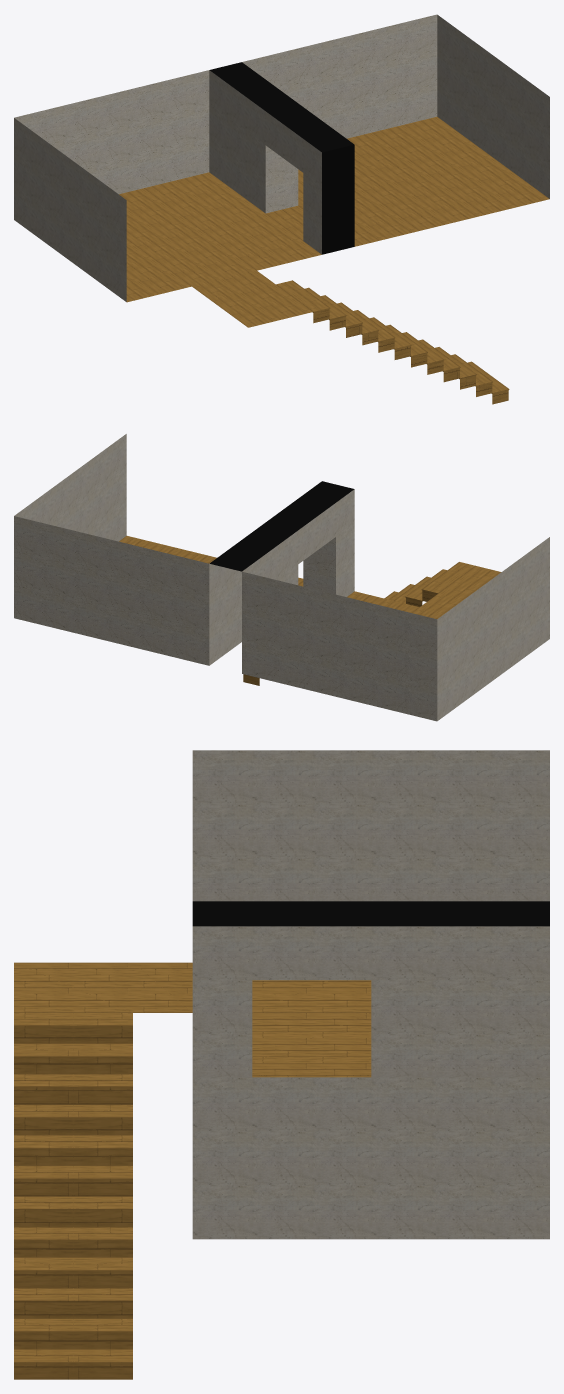
File: interior_upstairs.glb
The picture shows the model from 3 angles, top to bottom: view 1: azimuth 30°, elevation 25°; view 2: azimuth 150°, elevation 25°; view 3: azimuth 270°, elevation 25°; orthographic projection. The views are drawn at different scales.
Visible parts, largest first — view 1: floor2_room1_walls-col, floor2_room2_walls-col, floor2_room2_floor-col, floor2_room1_floor-col, floor2_interior-col, Stairs.002; view 2: floor2_room1_walls-col, floor2_room2_walls-col, floor2_interior-col, Stairs.002, floor2_room2_floor-col, floor2_room1_floor-col; view 3: floor2_room2_walls-col, floor2_room1_walls-col, Stairs.002, floor2_interior-col, floor2_room1_floor-col.
Boxes of the visible parts, x1,y1,x2,y2 form: floor2_room1_walls-col: (14,70,321,301); floor2_room2_walls-col: (242,14,549,198); floor2_room2_floor-col: (298,116,549,246); floor2_room1_floor-col: (119,172,321,302); floor2_interior-col: (192,62,354,327); Stairs.002: (276,280,509,404); floor2_room1_walls-col: (242,489,549,721); floor2_room2_walls-col: (14,434,241,665); floor2_interior-col: (210,481,501,613); Stairs.002: (243,562,475,685); floor2_room2_floor-col: (119,536,303,586); floor2_room1_floor-col: (347,591,444,618); floor2_room2_walls-col: (192,926,549,1239); floor2_room1_walls-col: (192,750,549,901); Stairs.002: (14,1013,132,1379); floor2_interior-col: (14,901,549,1077); floor2_room1_floor-col: (252,980,371,1063).
Size of what is drawn, in the model's own units: 13 by 7 by 9.
4 materials, 3 textured.
